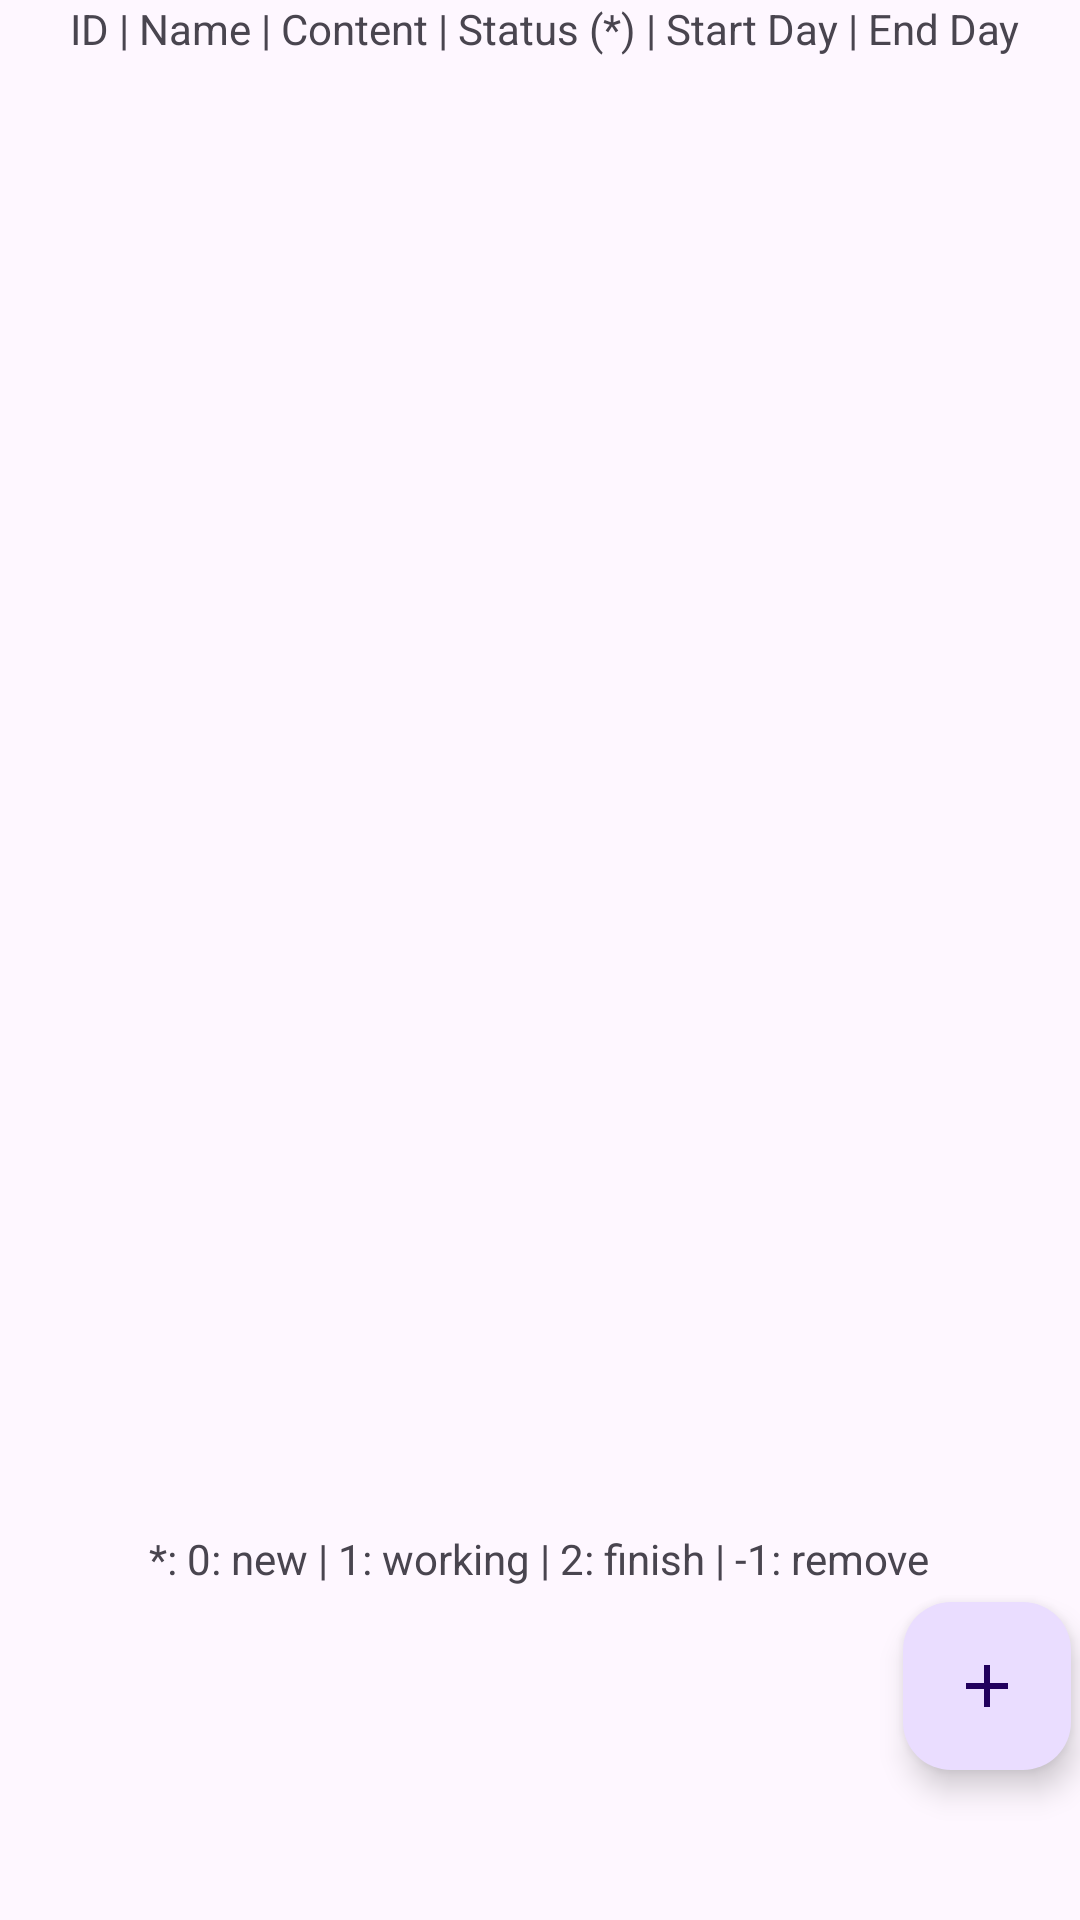

Point at icon controls on the screen. Image size 1080*1920, points as [x,y].
add: [987,1686]
